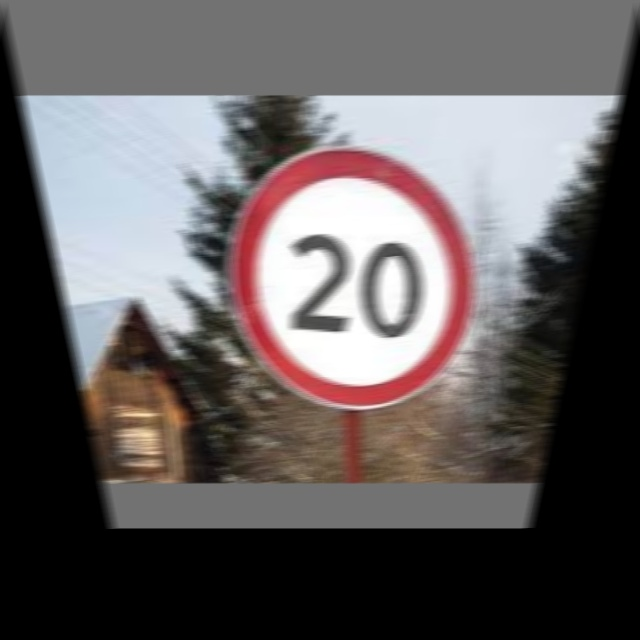Speed_Limit_20: (221, 146, 493, 405)
